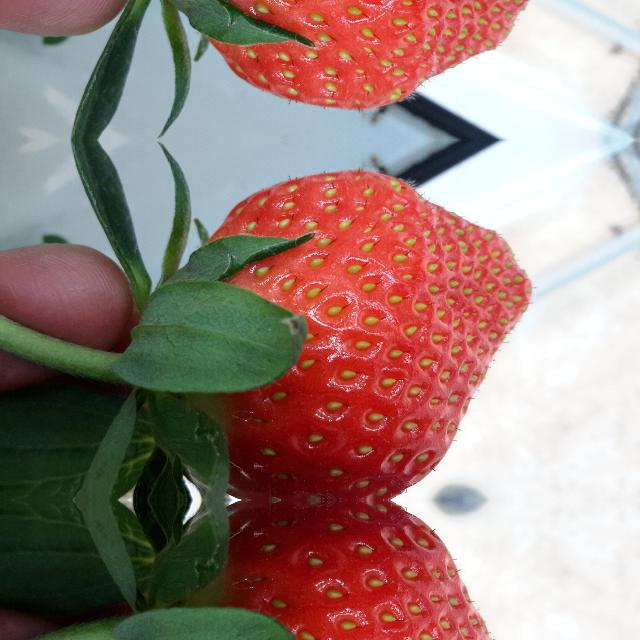Health_100: (190, 167, 534, 499), (189, 501, 534, 640), (189, 0, 534, 113)
